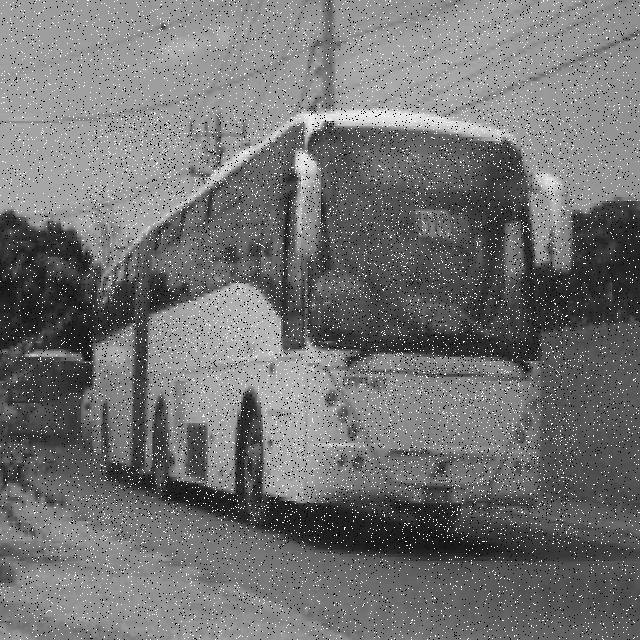Bus: (88, 109, 575, 543)
